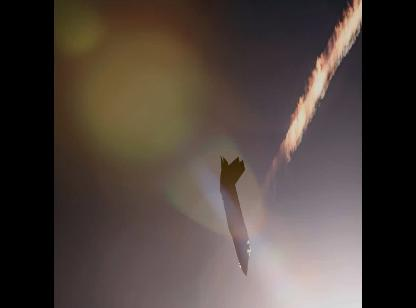F22: (220, 154, 252, 276)
